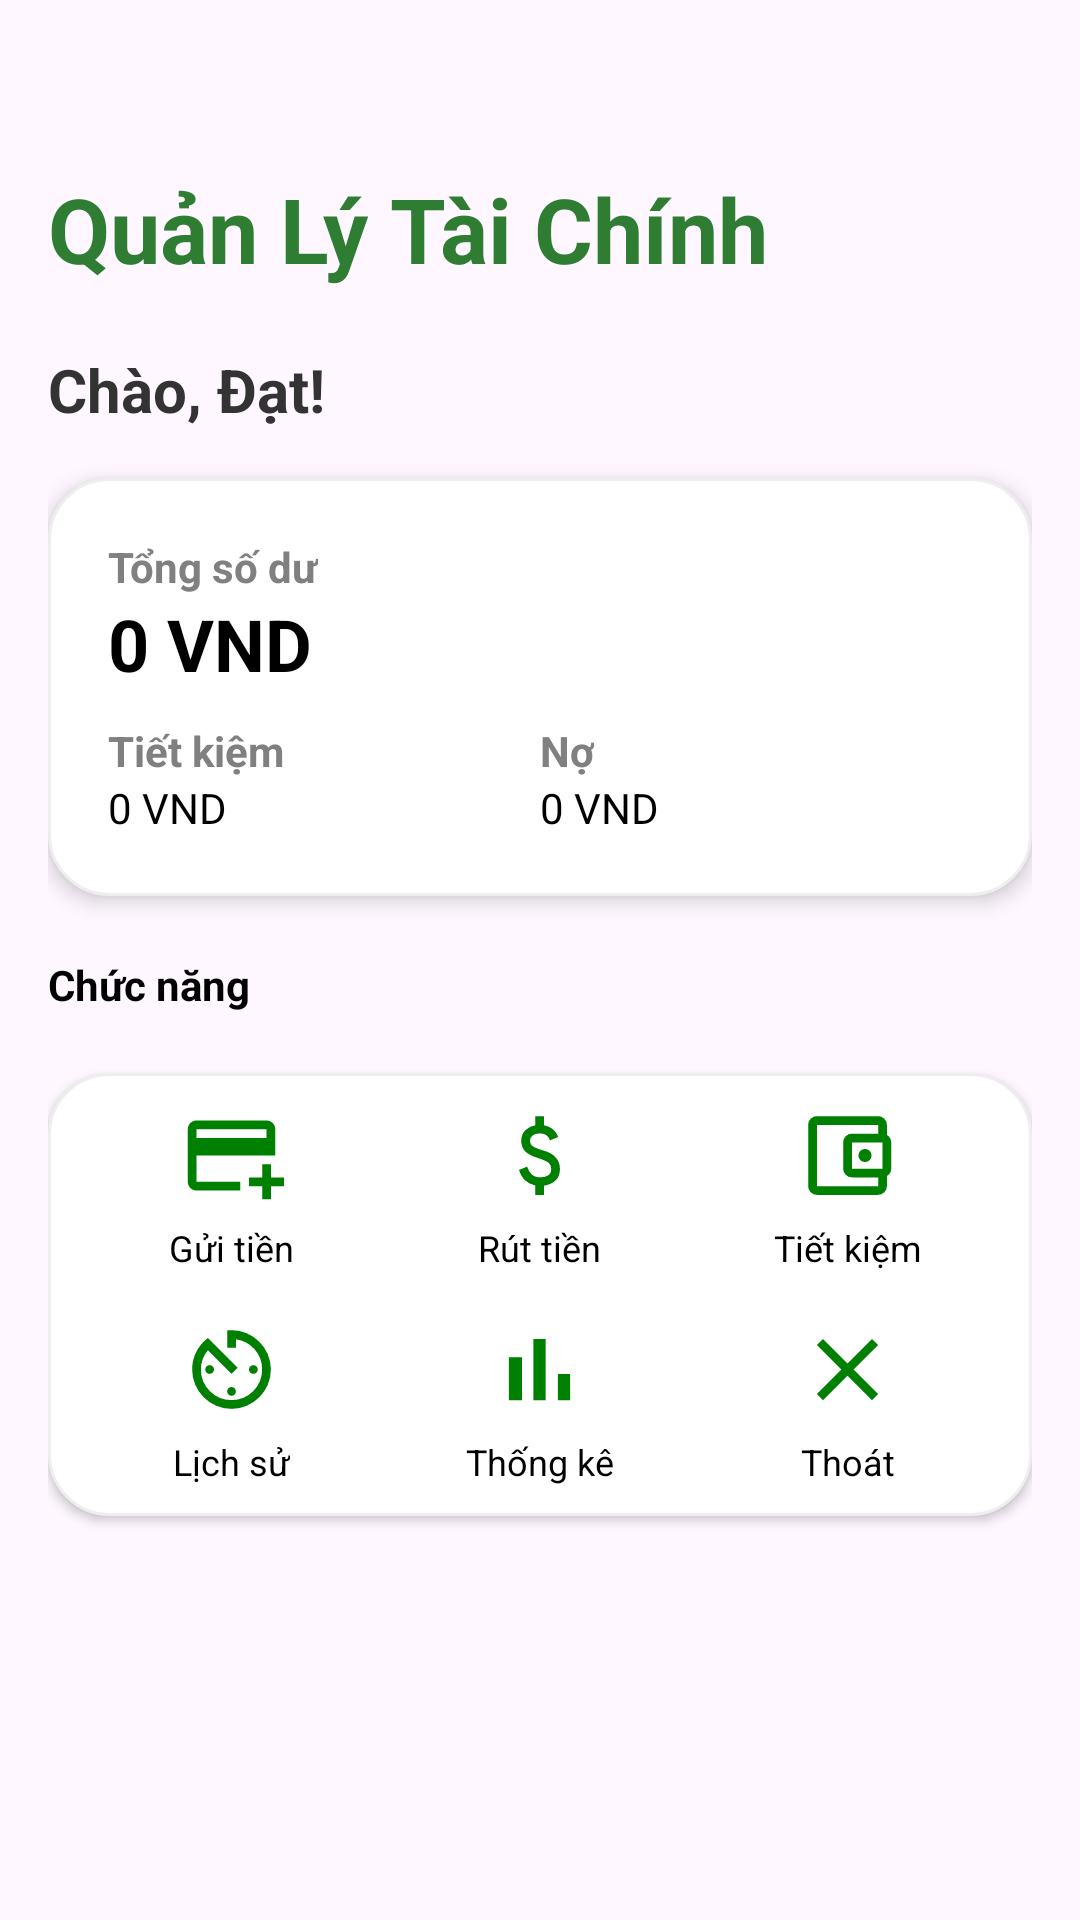

Point at icon controls on the screen. Image size 1080 × 1920, points as [x,y].
chart: [539,1370]
exit: [847,1369]
